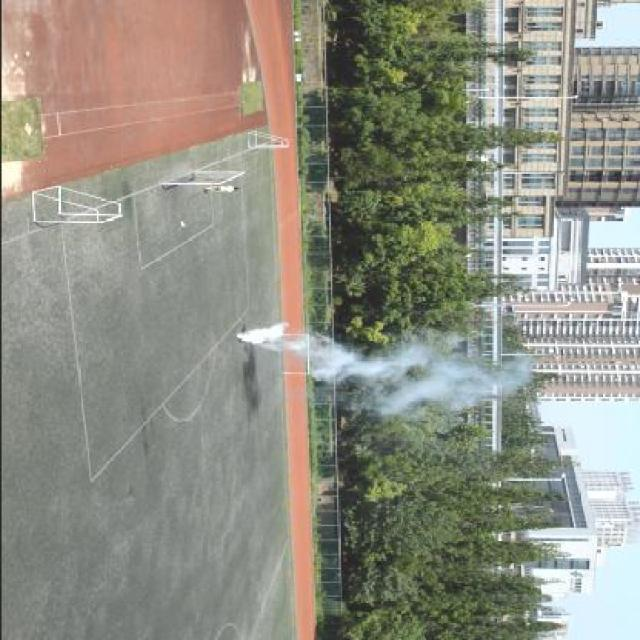Smoke: (242, 314, 548, 418)
